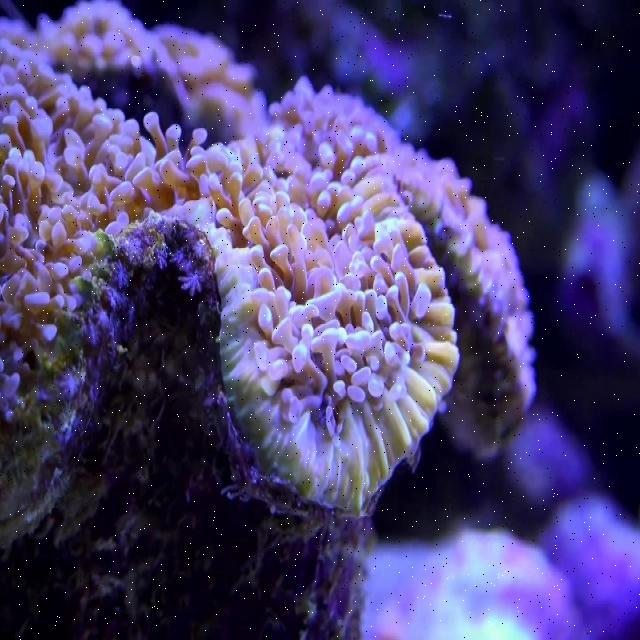reefs: (0, 1, 539, 522)
